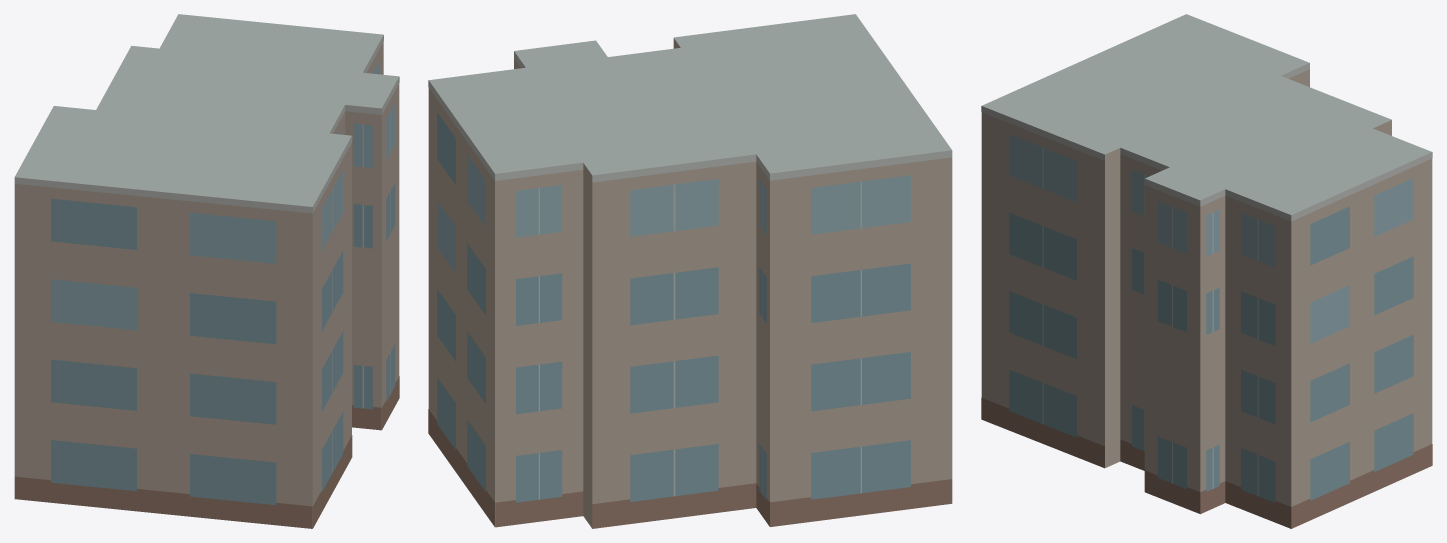
File: survey-upis-32667589.glb
The picture shows the model from 3 angles, left to right: view 1: azimuth 30°, elevation 25°; view 2: azimuth 150°, elevation 25°; view 3: azimuth 270°, elevation 25°; orthographic projection. The views are drawn at different scales.
Parts seen in each view (by area): view 1: survey-upis-32667589.tmp; view 2: survey-upis-32667589.tmp; view 3: survey-upis-32667589.tmp.
Boxes of the visible parts, box(x1,y1,x2,y2) form: survey-upis-32667589.tmp: box(14, 14, 399, 528); survey-upis-32667589.tmp: box(428, 14, 952, 528); survey-upis-32667589.tmp: box(981, 14, 1432, 528).
Bounding box in the file's own units: 16.75 × 12.17 × 15.87.
